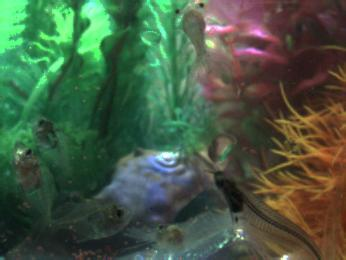X-ray fish: (10, 137, 58, 238), (42, 198, 133, 241), (30, 114, 76, 179)
glassfish: (209, 168, 326, 260)
siberian prawn: (170, 1, 230, 80), (145, 208, 238, 251)
